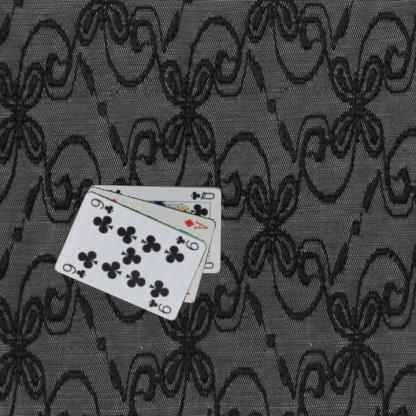9c: (174, 233, 200, 252), (60, 261, 87, 279)
Ad: (182, 216, 209, 231)
Qc: (188, 188, 216, 200)
